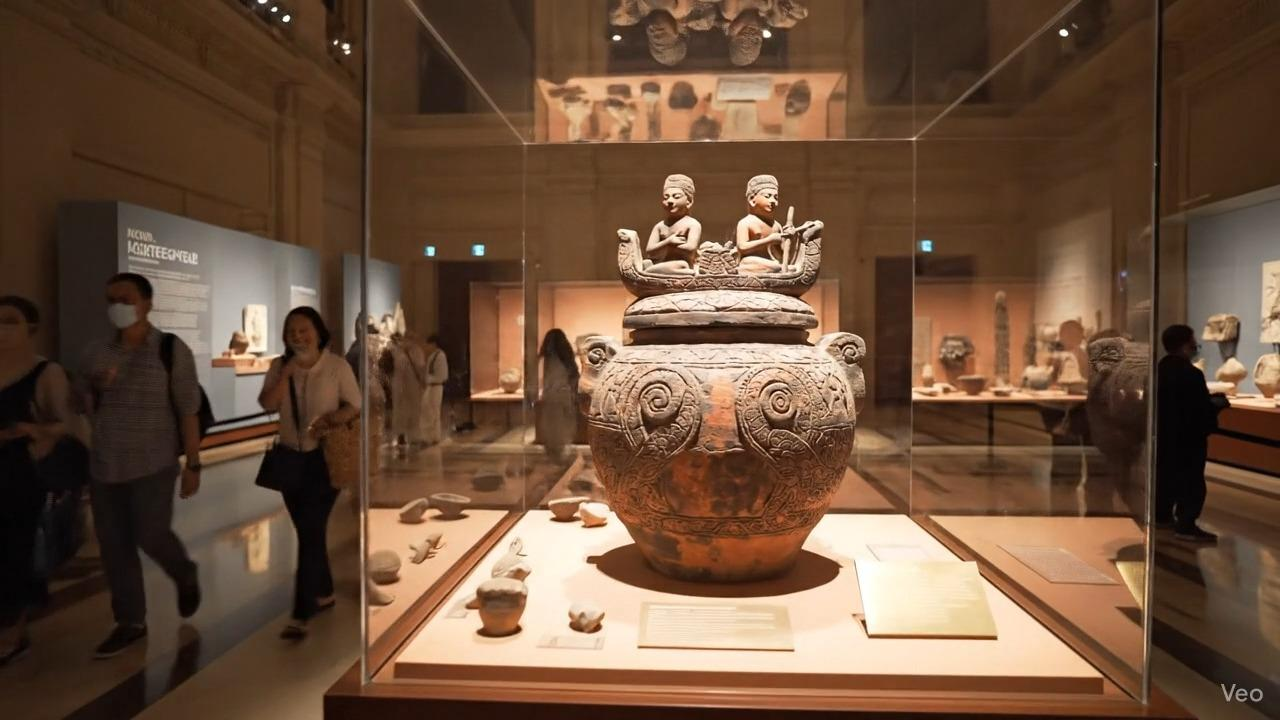manunggul_jar: (572, 155, 868, 591)
